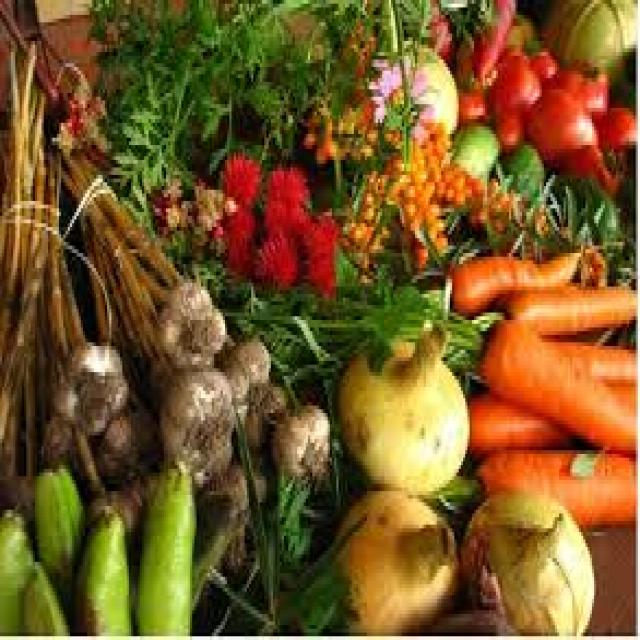organic waste: (0, 0, 328, 573), (85, 0, 327, 182), (0, 37, 85, 484), (199, 253, 474, 380), (337, 309, 468, 487), (478, 313, 638, 447), (459, 488, 594, 636), (332, 484, 457, 636), (212, 483, 308, 632), (463, 380, 634, 458), (476, 446, 638, 528), (343, 168, 467, 260), (133, 462, 194, 636), (276, 510, 360, 636), (288, 0, 489, 48), (432, 528, 518, 636), (446, 242, 581, 309), (542, 0, 638, 93), (160, 361, 232, 476), (72, 502, 133, 632), (52, 332, 127, 436), (498, 283, 638, 335), (203, 454, 264, 573), (30, 462, 80, 606), (157, 272, 223, 372), (350, 138, 446, 205), (524, 82, 592, 175), (364, 48, 434, 134), (264, 398, 330, 488), (535, 175, 618, 245), (437, 163, 515, 230), (98, 394, 153, 488), (50, 67, 107, 156), (330, 22, 369, 149), (406, 45, 456, 134), (223, 331, 266, 432), (535, 335, 638, 376), (19, 558, 68, 633), (0, 514, 31, 632), (485, 45, 537, 115), (468, 0, 514, 78), (559, 142, 618, 198), (264, 160, 308, 234), (487, 134, 542, 193), (85, 473, 140, 532), (243, 380, 286, 450), (253, 223, 300, 287), (40, 409, 88, 465), (218, 205, 256, 275), (304, 212, 338, 287), (452, 119, 496, 175), (550, 60, 605, 104), (0, 465, 35, 532), (592, 100, 636, 149), (218, 153, 258, 205), (159, 168, 188, 235), (437, 0, 489, 37), (301, 104, 330, 160), (190, 182, 221, 231), (456, 67, 485, 119), (426, 0, 450, 60), (494, 108, 524, 149), (528, 45, 552, 82)
